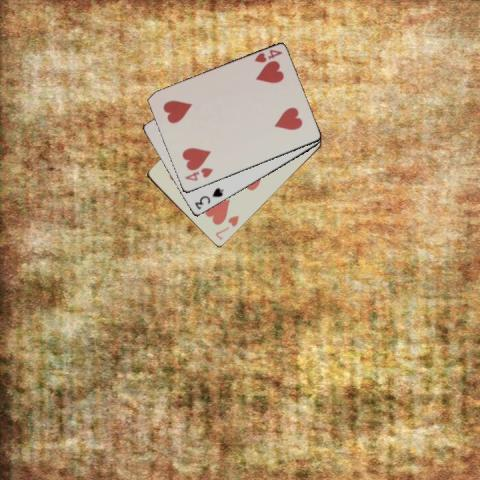3s: (192, 185, 225, 211)
4h: (181, 165, 214, 183), (252, 47, 284, 64)
7h: (212, 213, 240, 241)
